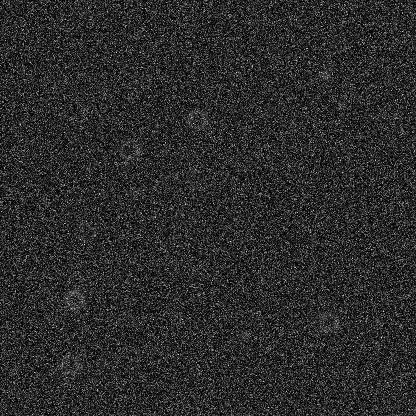Ring: (73, 220, 97, 244), (117, 138, 141, 162), (316, 310, 340, 334), (62, 287, 86, 311), (57, 351, 81, 375), (184, 168, 208, 192), (378, 98, 402, 122), (184, 106, 208, 130)
Spot: (316, 67, 332, 83), (127, 185, 143, 201), (236, 328, 252, 344), (329, 142, 345, 158), (94, 355, 110, 371)
